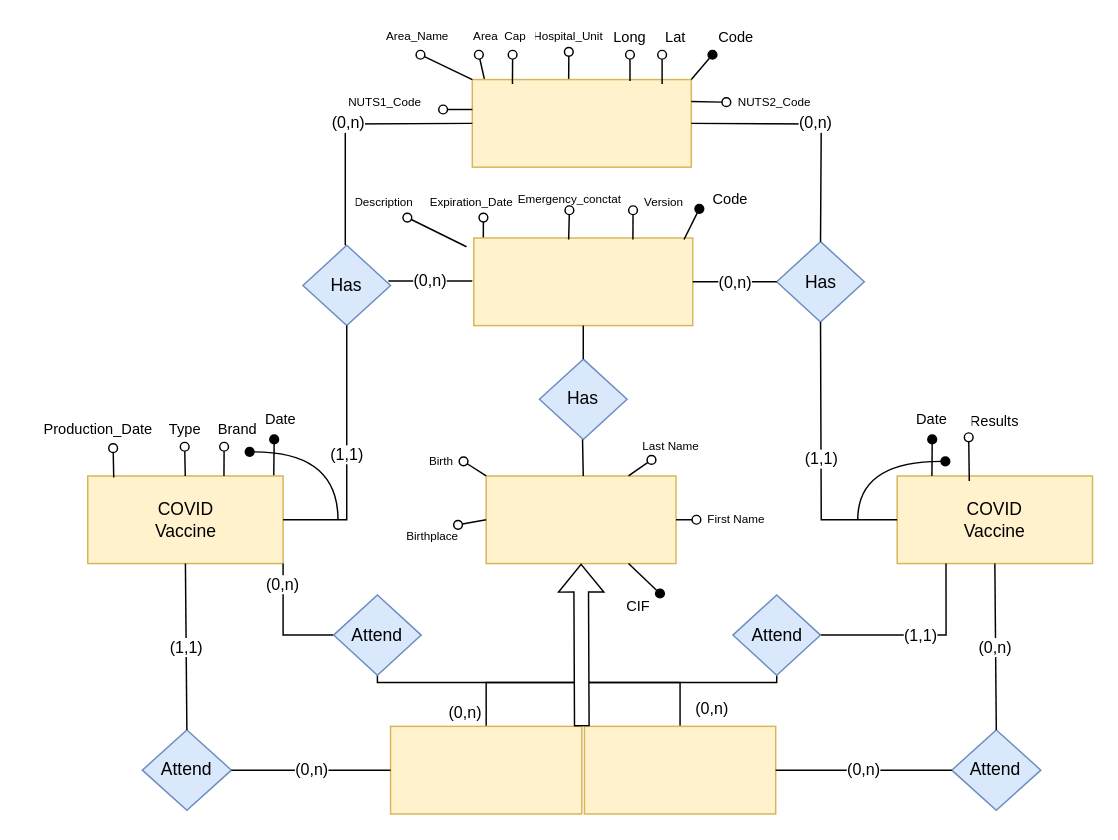
Image size: 1118x840. Some labels were removed from this diagram. The centre of each missing label's shape, as x and y in pixels:
"Certificate" belongs at (582,281).
"Doctor" belongs at (485,769).
"Nurse" belongs at (679,769).
"Person" belongs at (580,519).
"Place" belongs at (581,122).
